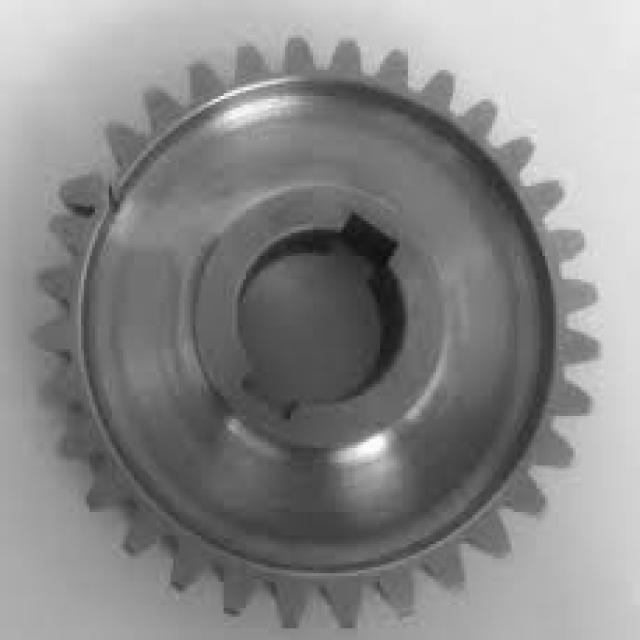Fault-Exist: (16, 38, 607, 628), (41, 156, 130, 434)
